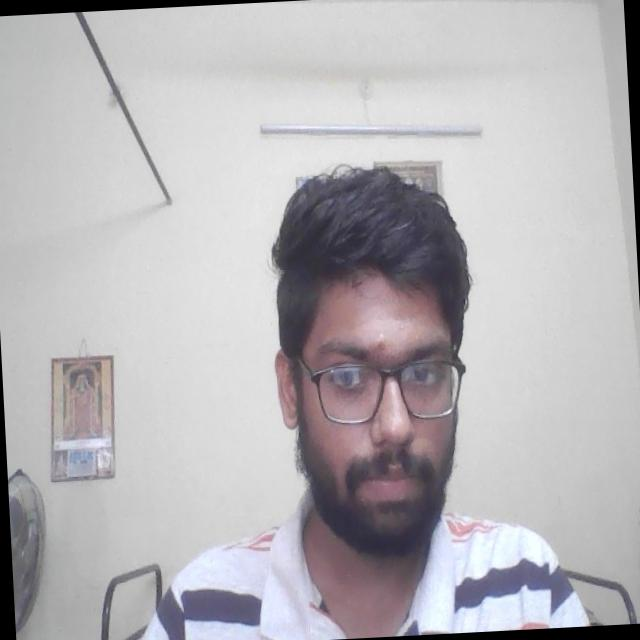Focused: (278, 270, 478, 532)
